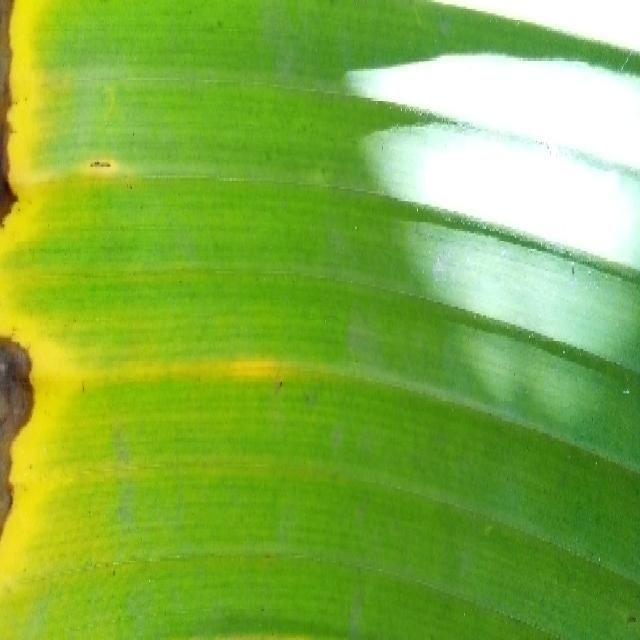Cordana: (0, 0, 364, 636)
